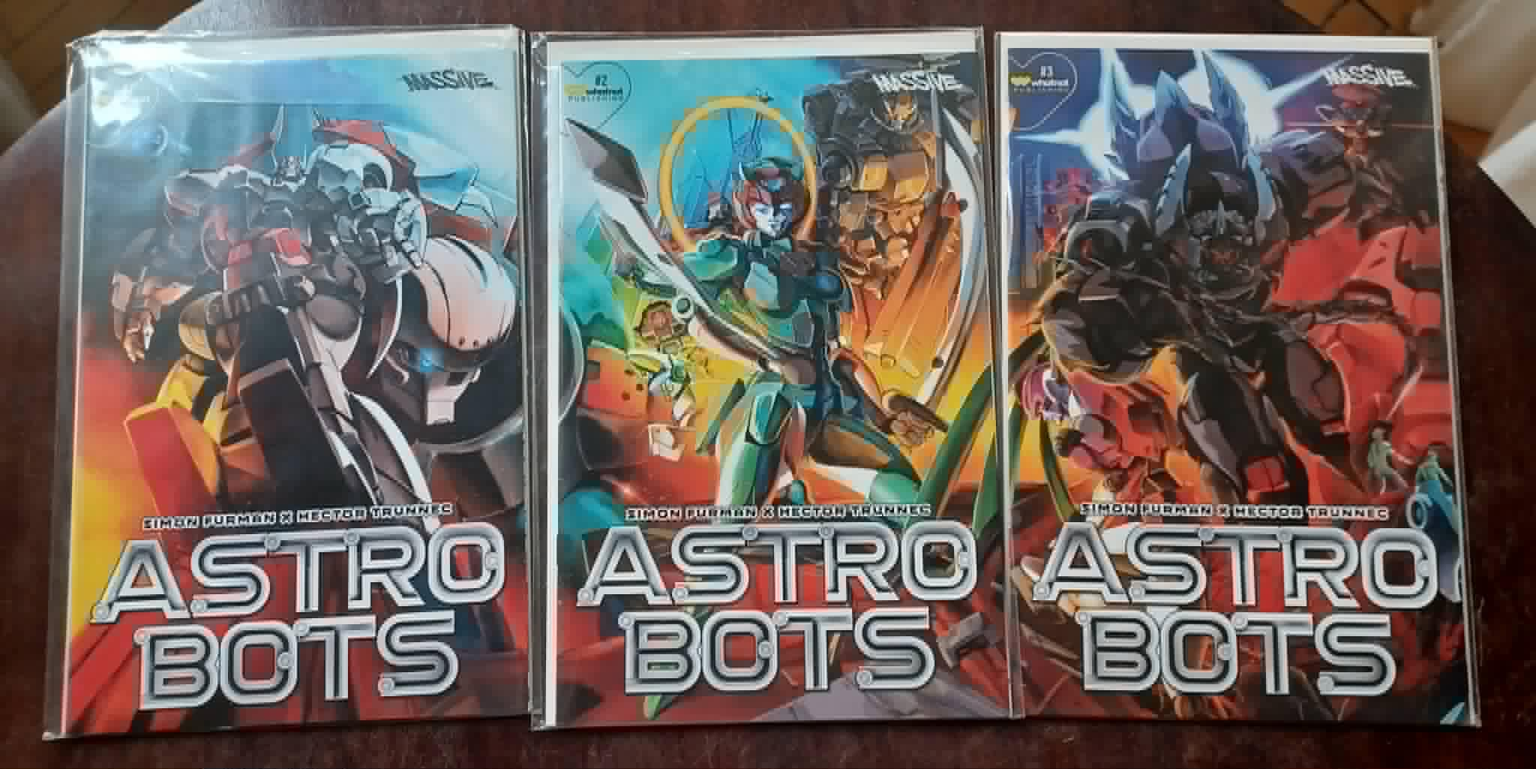comic: (36, 28, 532, 738), (994, 22, 1478, 736), (522, 28, 1012, 727)
